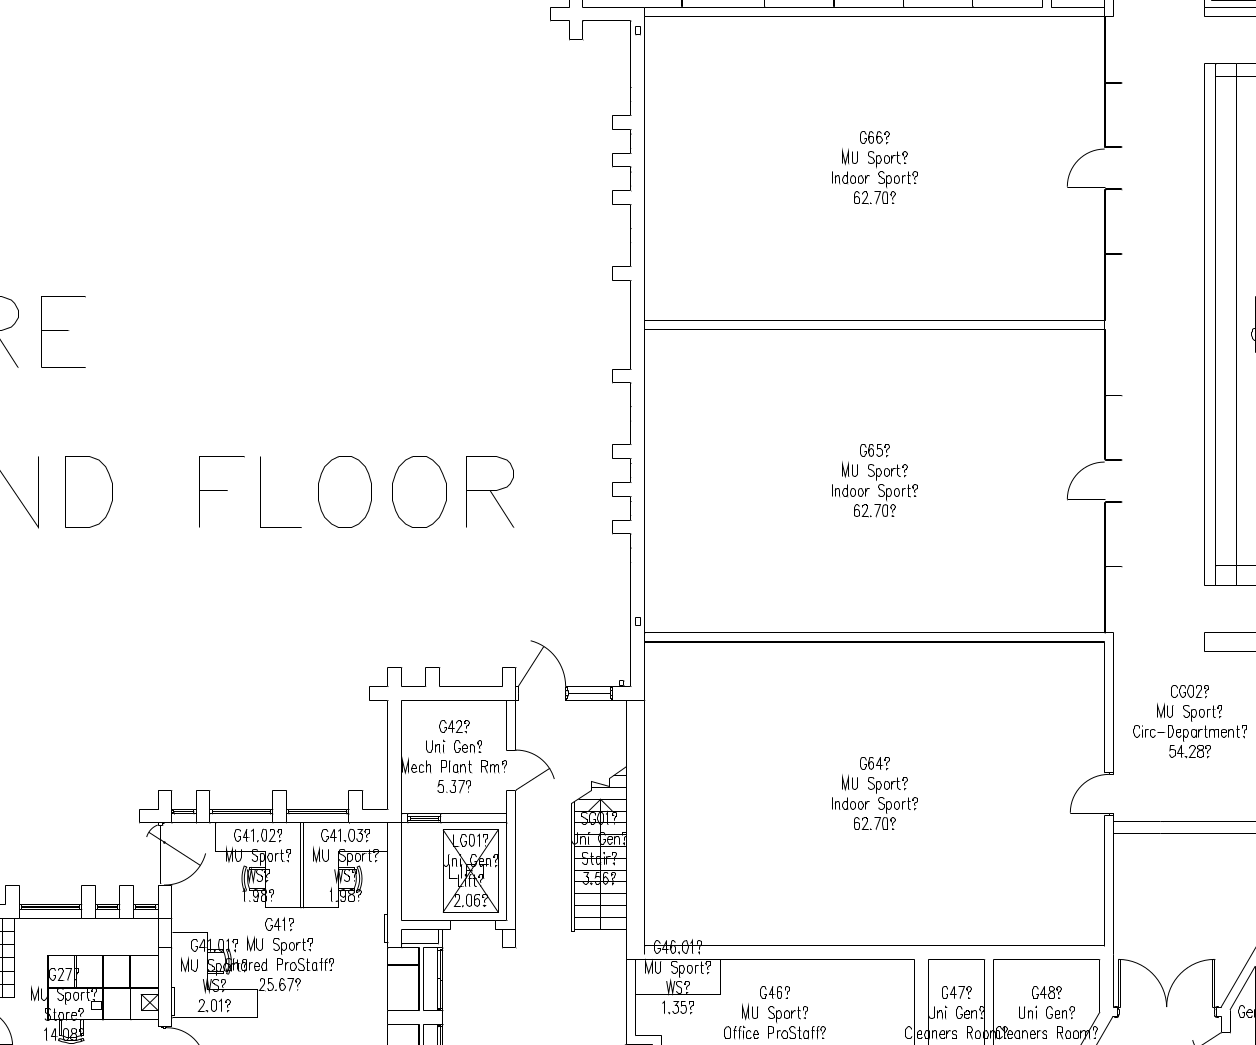door: (1116, 950, 1219, 1019), (518, 630, 575, 704), (1061, 455, 1107, 507), (1061, 144, 1107, 196), (1059, 765, 1105, 817)
